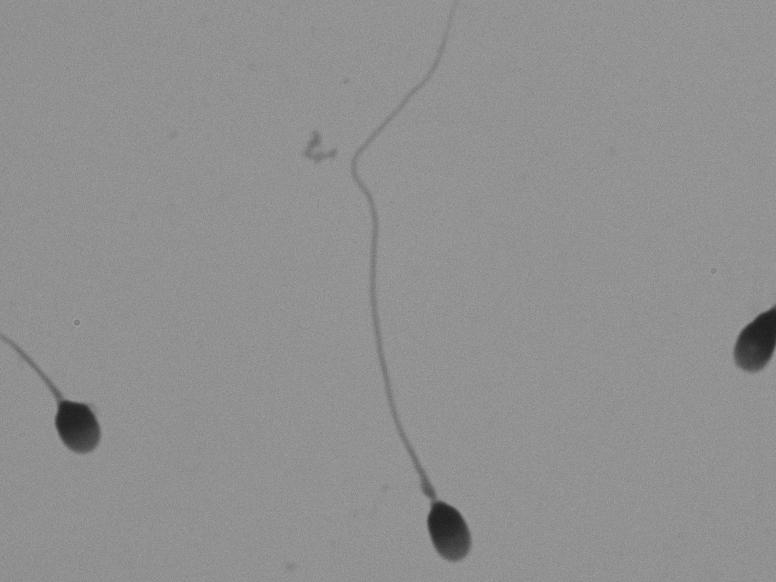Normal: (326, 20, 497, 576), (10, 267, 152, 509)
